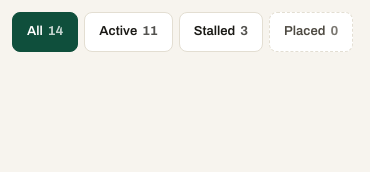
Scenario: FilterChips › applies the filter the counter itself declares
This screenshot has width=370, height=172.
Click the button "Stalled 3" at (221, 32), box [179, 12, 263, 52]
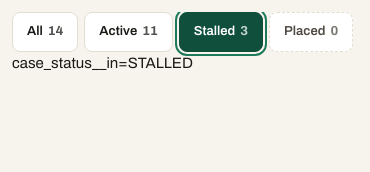
Check: the text with test id "query" reads "case_status__in=STALLED", box [12, 55, 193, 71]
